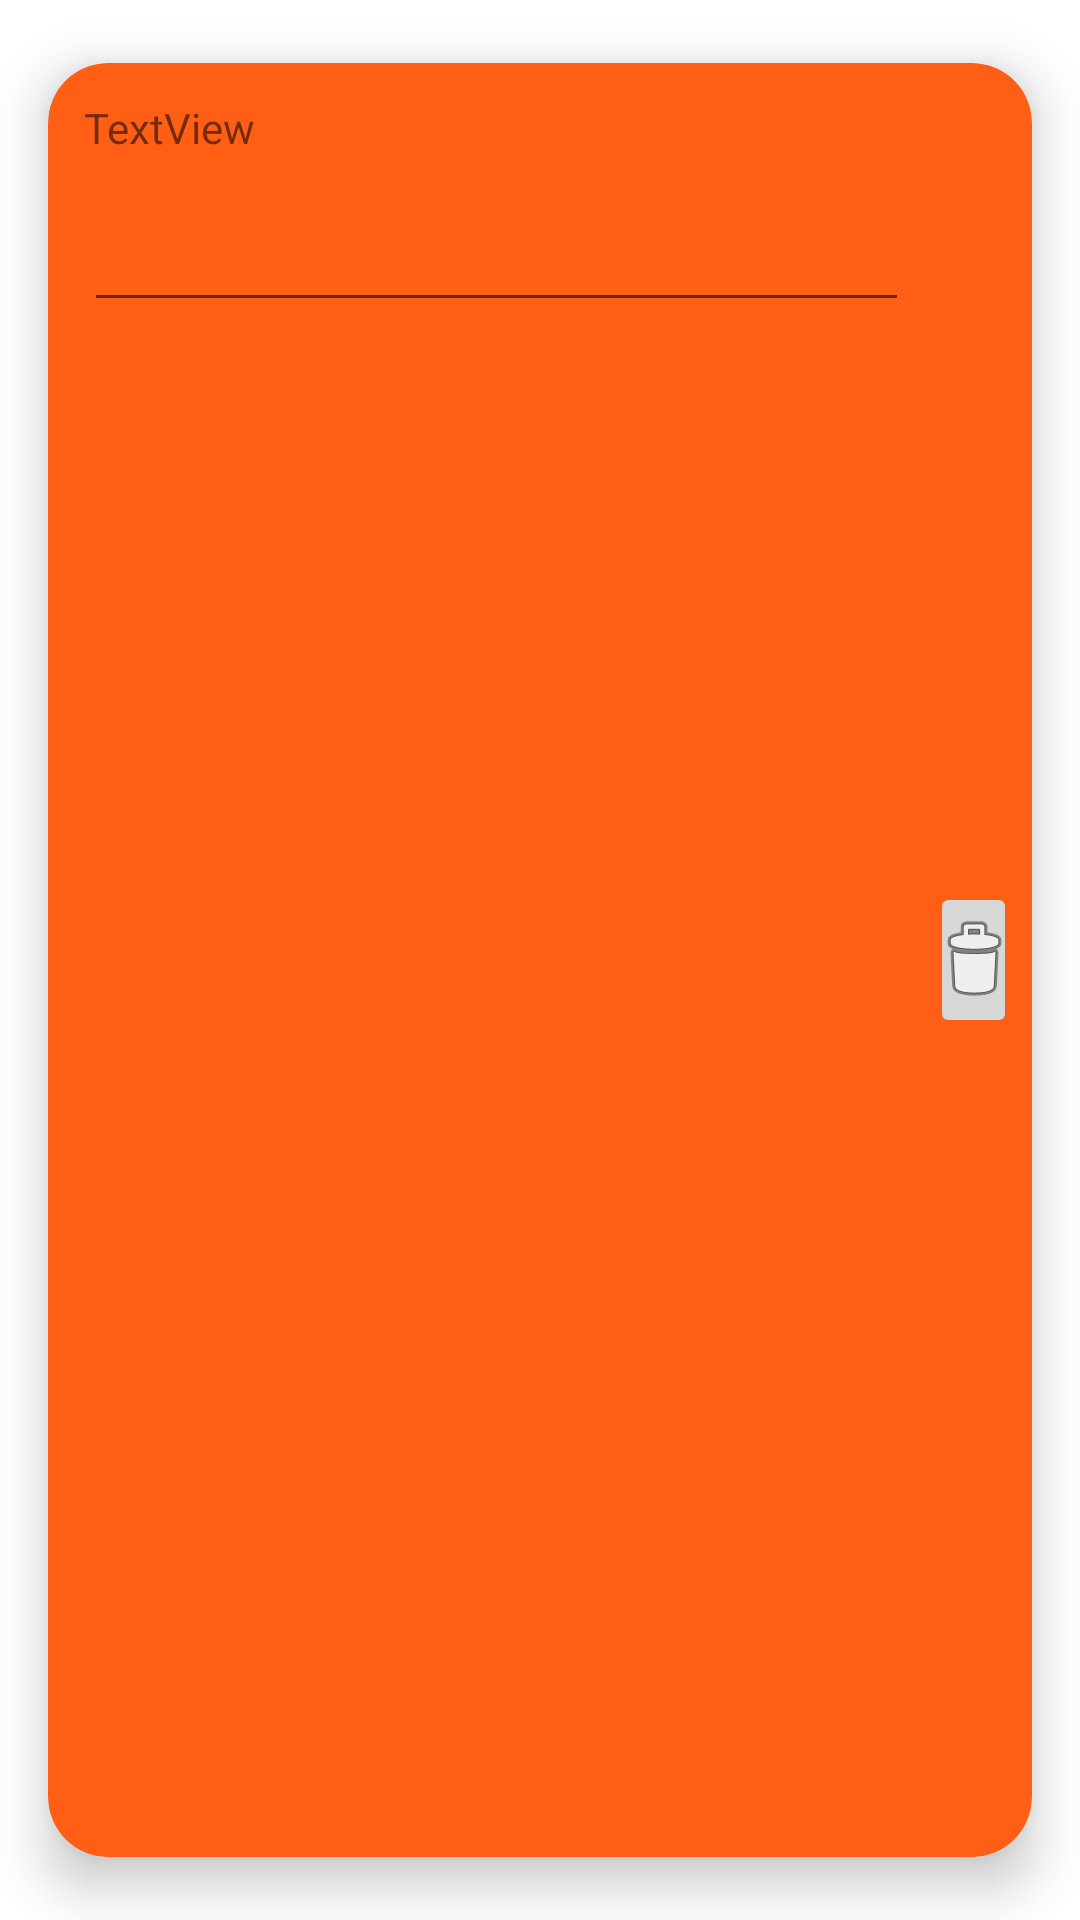

Icon bounding boxes for this 1080w x 1920h phone screenshot, format (x1, y1, x2, y2):
delete: (942, 900, 1005, 1020)
